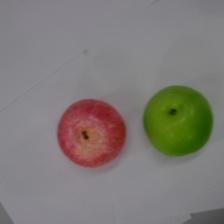green: (142, 84, 213, 157)
red: (56, 98, 127, 168)
